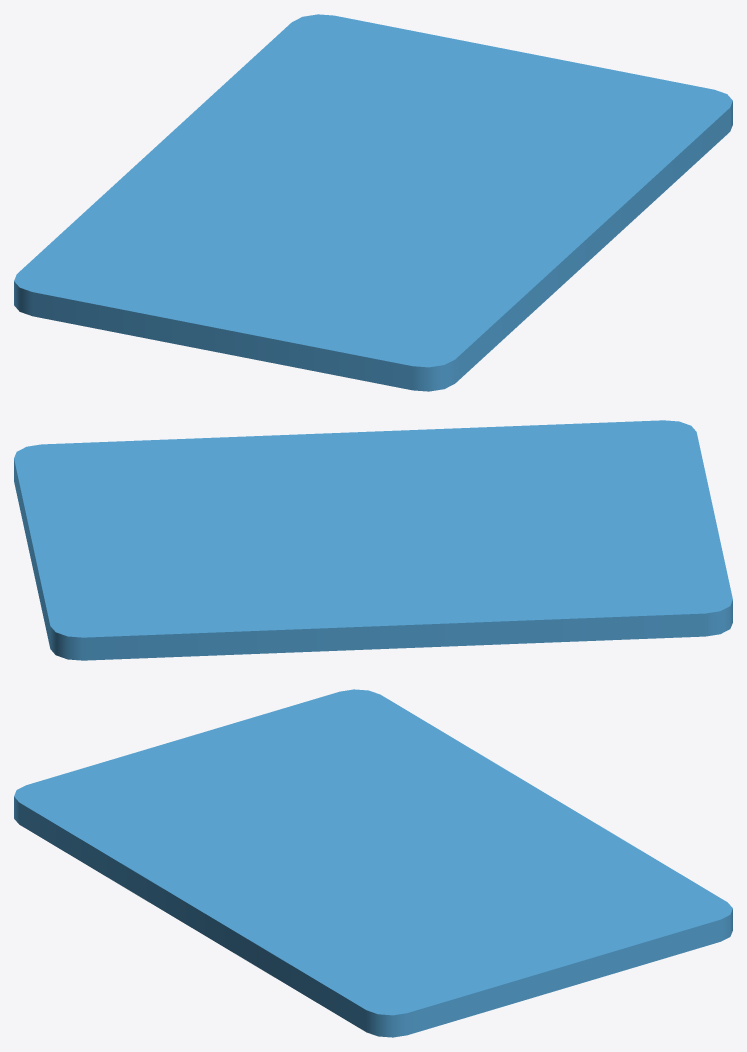
File: note.fbx
3 renders of one model, top to bottom at view 1: azimuth 30°, elevation 25°; view 2: azimuth 150°, elevation 25°; view 3: azimuth 270°, elevation 25°, orthographic. The views are drawn at different scales.
Visible parts, largest first — view 1: Pad; view 2: Pad; view 3: Pad.
Boxes of the visible parts, bbox=[...] form: Pad: bbox=[14, 14, 732, 391]; Pad: bbox=[14, 420, 732, 660]; Pad: bbox=[14, 689, 732, 1037].
Bounding box in the file's own units: 135 × 4.27 × 126.
